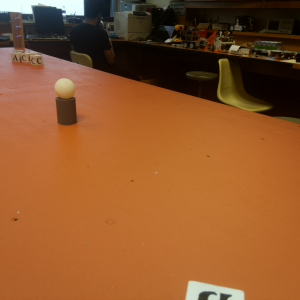blockA: (11, 53, 21, 63)
blockB: (183, 279, 249, 300)
blockC: (31, 53, 44, 65)
corner: (9, 11, 26, 49)
obstacle: (55, 77, 79, 127)
